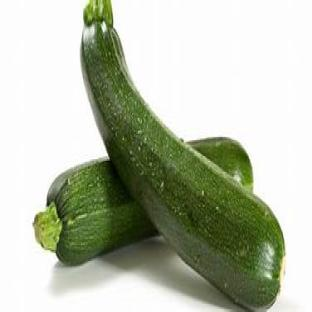Zucchini: (35, 160, 157, 265)
